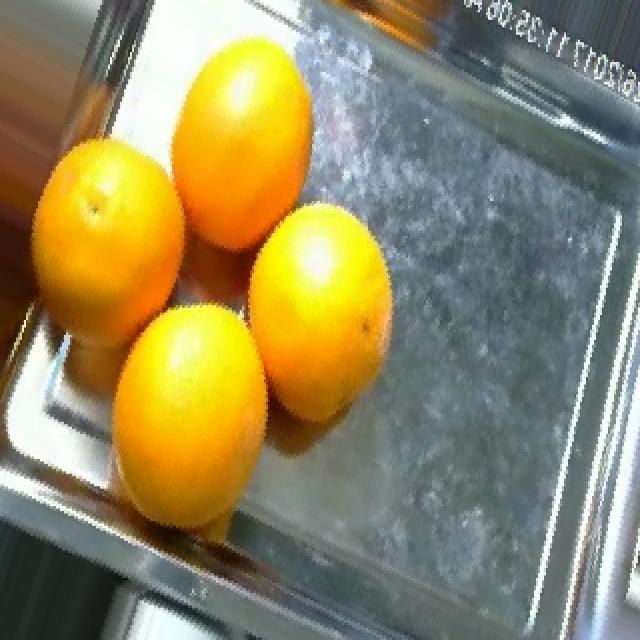Good_Orange: (112, 305, 268, 531), (30, 139, 186, 355), (248, 203, 396, 427), (170, 37, 312, 253)
